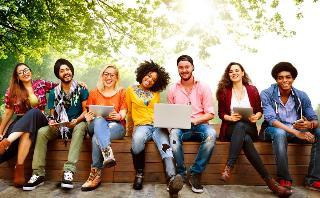person - v3 P: (216, 63, 291, 197), (23, 59, 88, 190), (260, 62, 319, 190), (127, 60, 182, 197), (0, 63, 58, 187), (168, 55, 216, 192), (82, 65, 127, 190)
